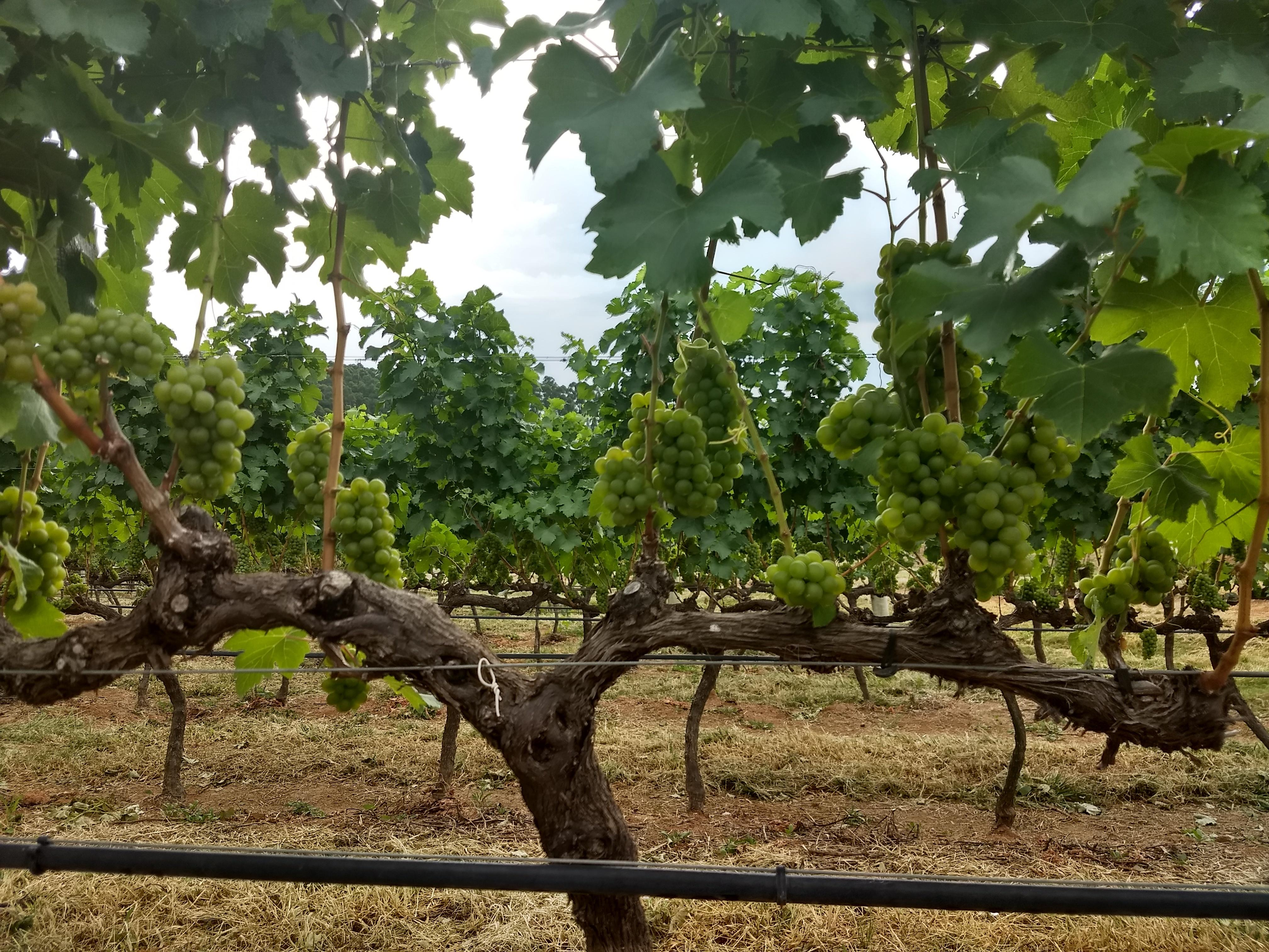leaf: (584, 141, 784, 290), (524, 41, 703, 190), (1092, 273, 1258, 406), (1002, 333, 1175, 445), (1136, 153, 1268, 279), (759, 125, 862, 243), (1106, 434, 1219, 521), (1060, 128, 1142, 225), (718, 0, 821, 38), (1182, 441, 1188, 450)
